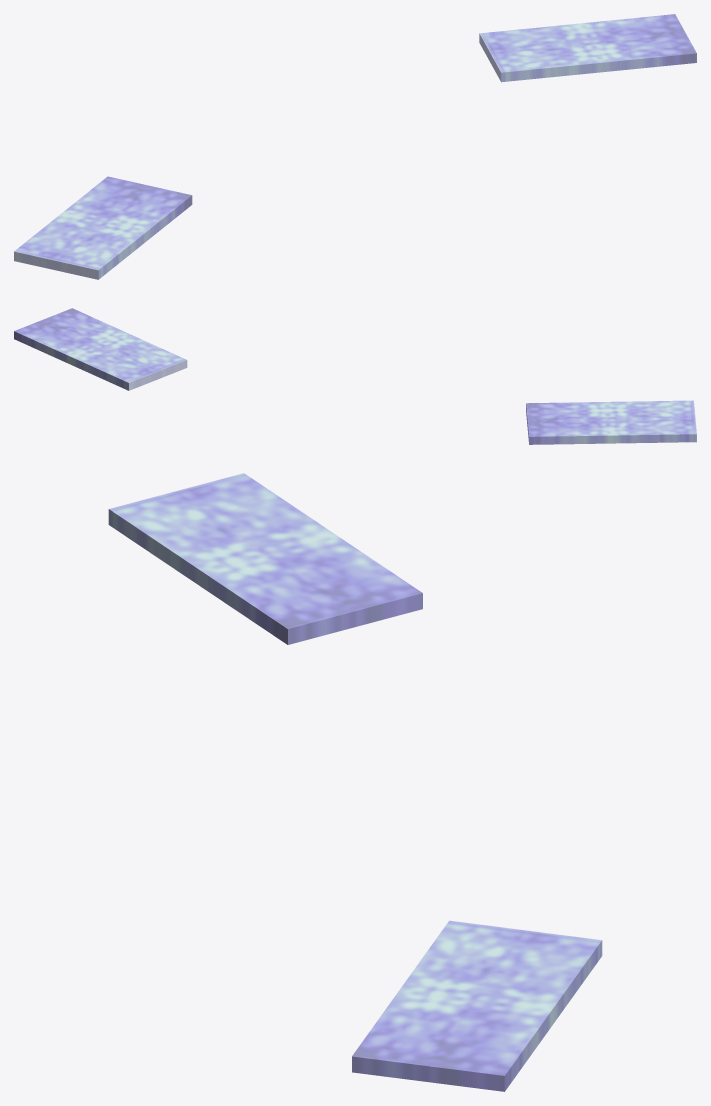
File: carpet_palafitos.dae
3 renders of one model, top to bottom at view 1: azimuth 30°, elevation 25°; view 2: azimuth 150°, elevation 25°; view 3: azimuth 270°, elevation 25°, orthographic. The views are drawn at different scales.
Visible parts, largest first — view 1: palafitos.001; view 2: palafitos.001; view 3: palafitos.001.
Boxes of the visible parts, x1=… form: palafitos.001: x1=14, y1=14, x2=696, y2=279; palafitos.001: x1=14, y1=308, x2=696, y2=444; palafitos.001: x1=108, y1=473, x2=602, y2=1091.
Size of the model in its own units: 13.53 by 4.68 by 0.1672.
